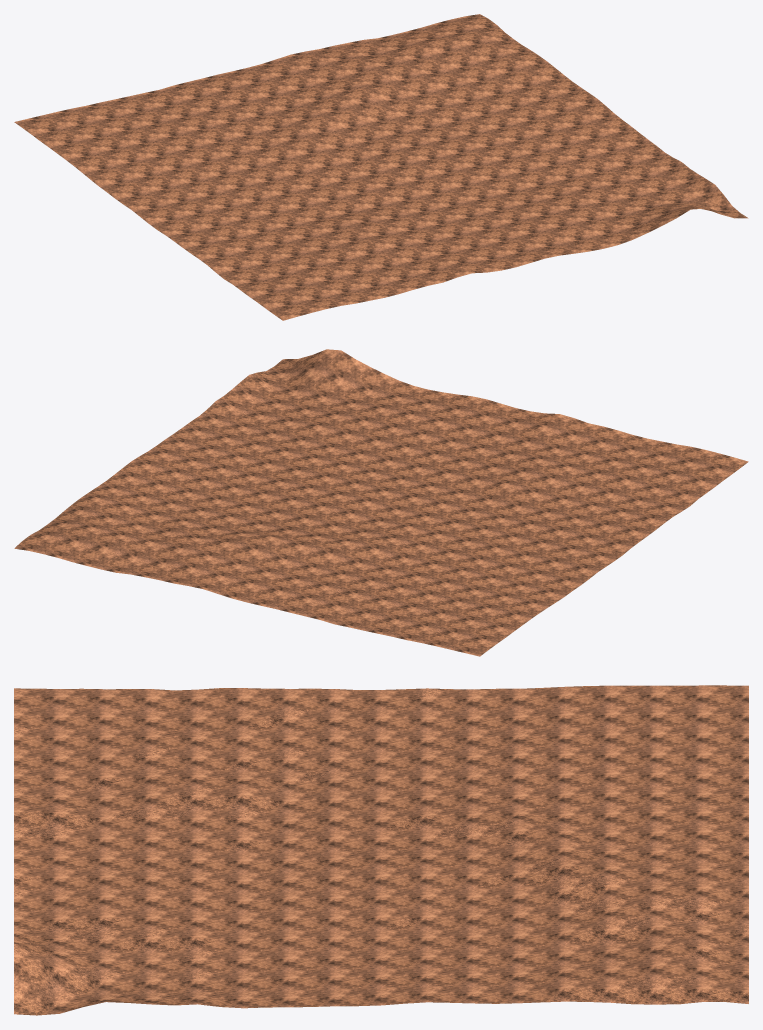
Rendered from terrain_04_07.dae.
The picture shows the model from 3 angles, top to bottom: view 1: azimuth 30°, elevation 25°; view 2: azimuth 150°, elevation 25°; view 3: azimuth 270°, elevation 25°; orthographic projection. The views are drawn at different scales.
Visible parts, largest first — view 1: terrain_04_07-node; view 2: terrain_04_07-node; view 3: terrain_04_07-node.
Part boxes in pixels (x1,y1,x2,y2): terrain_04_07-node: (14, 14, 748, 320); terrain_04_07-node: (14, 349, 748, 656); terrain_04_07-node: (14, 685, 748, 1015).
Size of the model in its own units: 128 by 128 by 6.27.
1 material, 1 textured.
